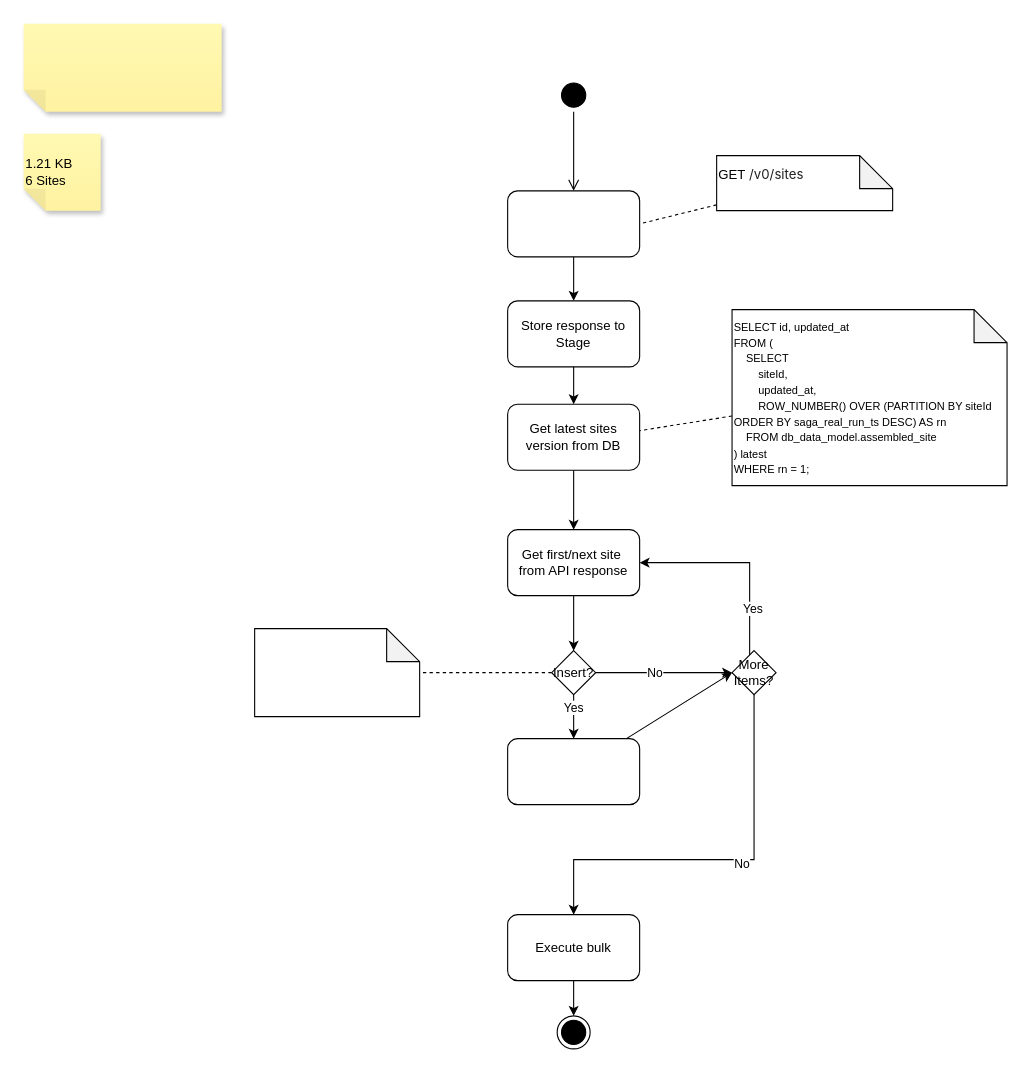
This 1026x1068 diagram has some shape labels left out. The shapes that lost their labels are listed below. From the top down, each one's centre as x and y in pixels, then its label:
At point 123,69: "Por qué no tomarlo de people, mismas razones que para Teams.".
At point 573,223: "Call Sites API".
At point 337,672: "[DB].updated_at < [API response].updated_at OR item not found in DB".
At point 573,771: "Add to insert bulk".
